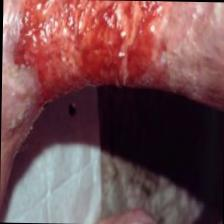wound-ulser: (6, 0, 179, 120)
